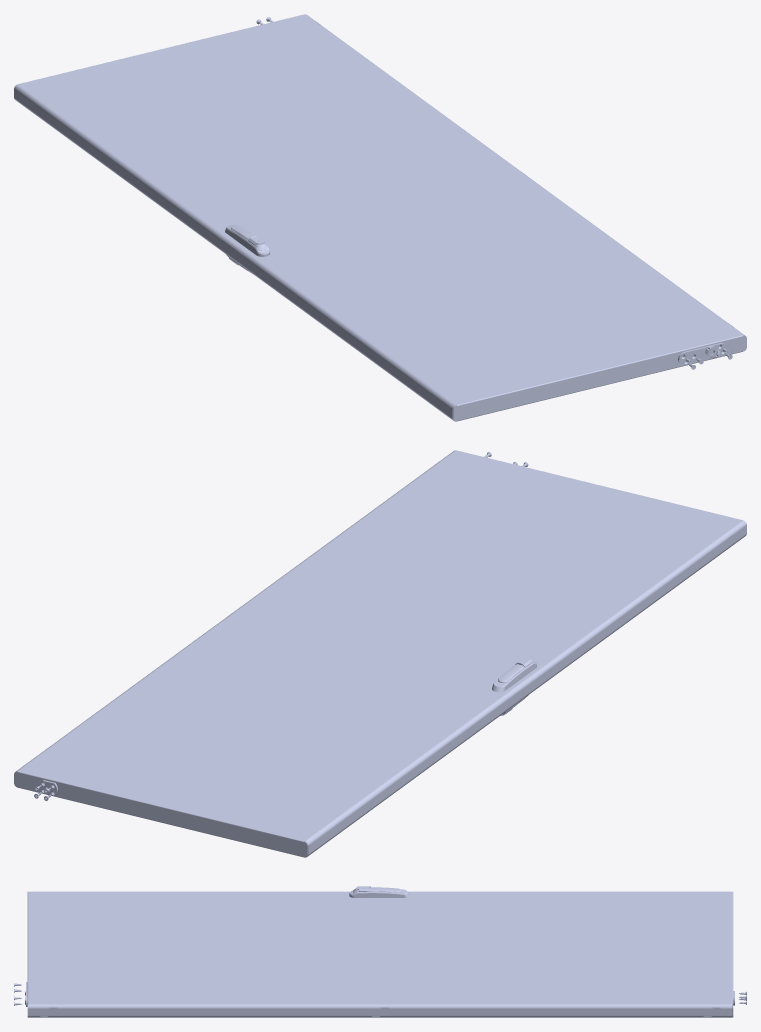
The model's file is step-4.glb.
3 renders of one model, top to bottom at view 1: azimuth 30°, elevation 25°; view 2: azimuth 150°, elevation 25°; view 3: azimuth 270°, elevation 25°, orthographic. The views are drawn at different scales.
Parts seen in each view (by area): view 1: door2-1; view 2: door2-1; view 3: door2-1.
Boxes of the visible parts, <box> form: door2-1: <box>14,14,746,421</box>; door2-1: <box>14,450,746,857</box>; door2-1: <box>27,886,733,1017</box>.
Size of the model in its own units: 0.8022 by 0.0992 by 2.15.
